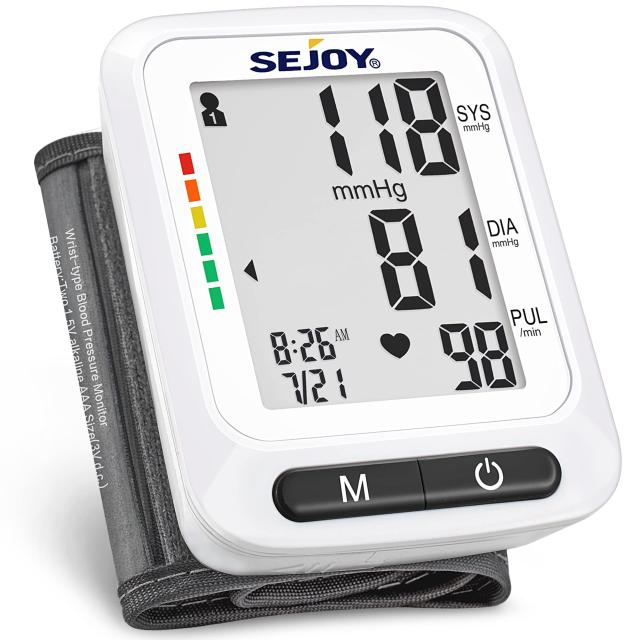dia: (360, 196, 505, 315)
pul: (430, 301, 525, 407)
ssd: (179, 16, 529, 456)
sys: (297, 73, 467, 181)
